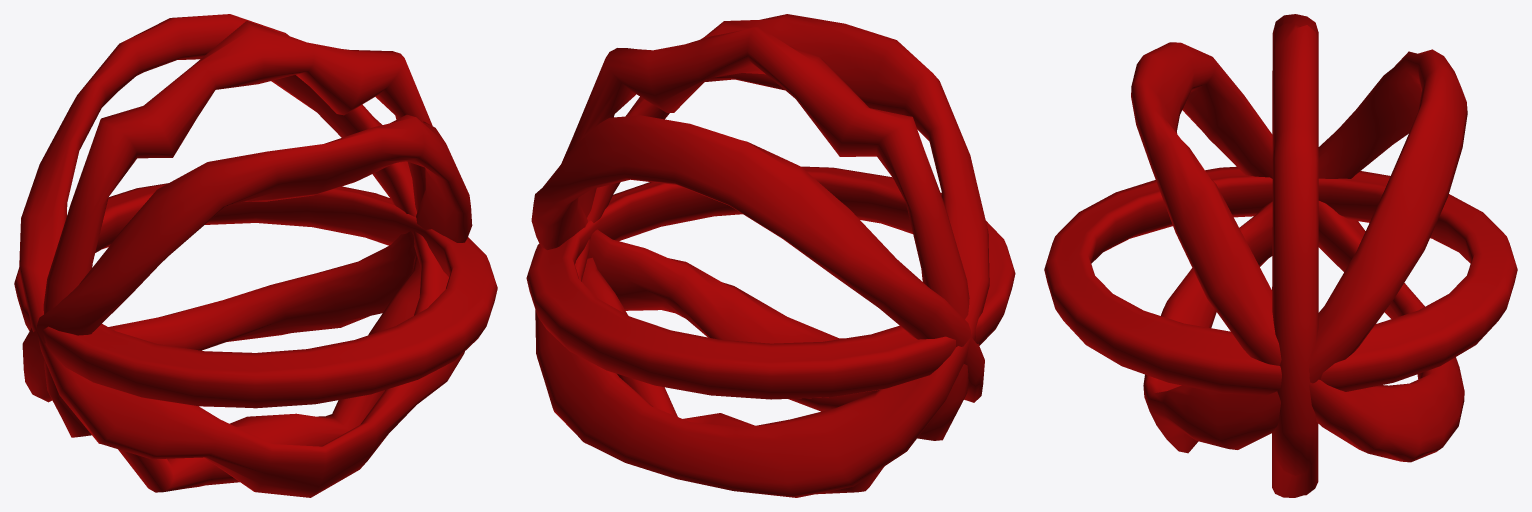
Rendered from Enemy_4_prefab.fbx.
3 views of the same model, side by side, from view 1: azimuth 30°, elevation 25°; view 2: azimuth 150°, elevation 25°; view 3: azimuth 270°, elevation 25° (orthographic). The views are drawn at different scales.
Visible parts, largest first — view 1: Torus003, Torus004, Torus001, Torus002; view 2: Torus003, Torus004, Torus001, Torus002; view 3: Torus001, Torus003, Torus004, Torus002.
Part boxes in pixels (x1,y1,x2,y2): Torus003: (22, 114, 472, 402); Torus004: (19, 14, 464, 497); Torus001: (14, 183, 497, 408); Torus002: (43, 21, 432, 492); Torus003: (535, 14, 989, 497); Torus004: (531, 115, 984, 411); Torus001: (526, 166, 1015, 399); Torus002: (562, 27, 969, 494); Torus001: (1044, 166, 1517, 395); Torus003: (1131, 42, 1464, 462); Torus004: (1143, 49, 1467, 453); Torus002: (1272, 14, 1318, 497).
Size of the model in its own units: 96.04 by 98.54 by 95.09.
